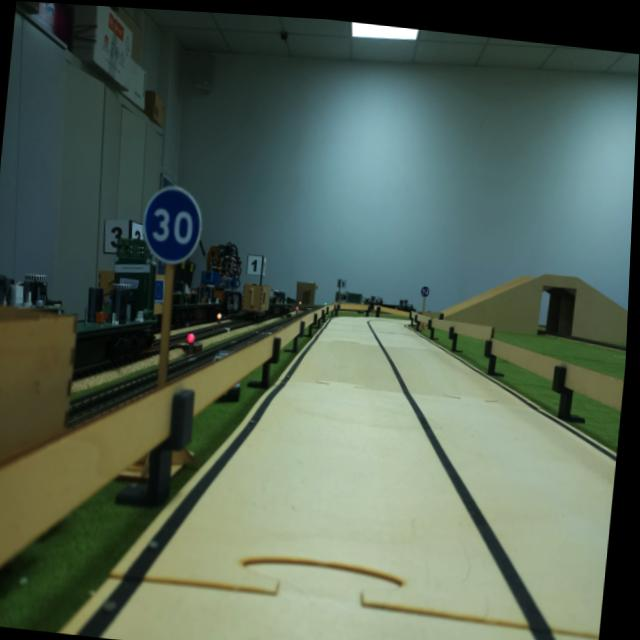panneau-limitation30: (139, 181, 208, 265)
